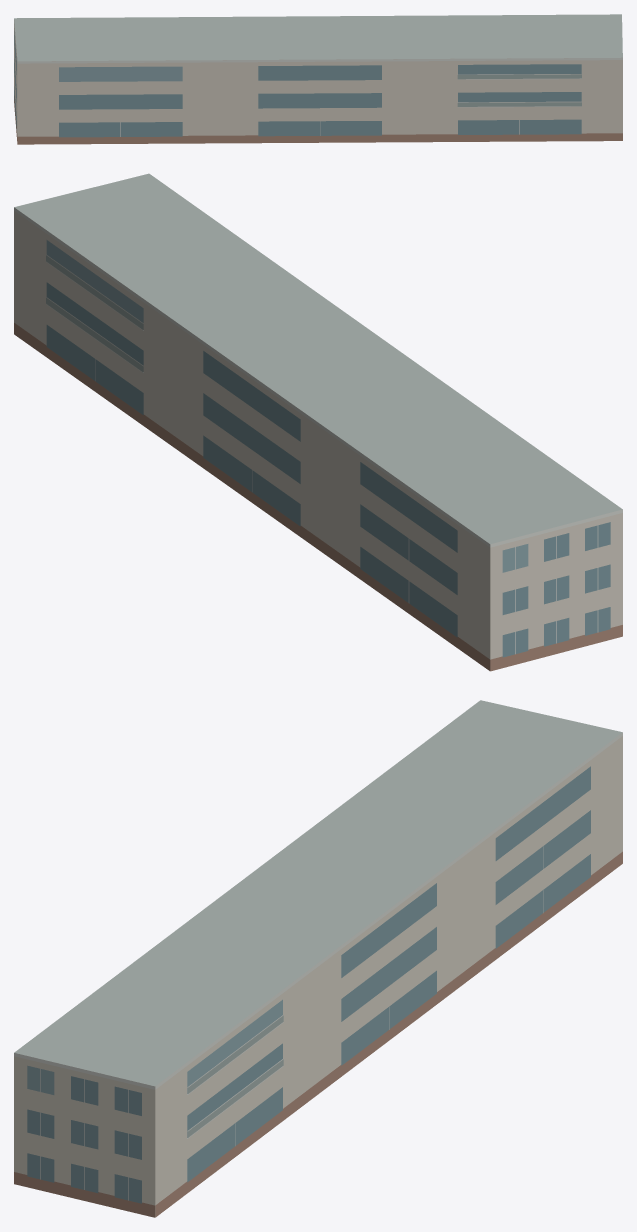
File: survey-upis-32877608.glb
3 views of the same model, one above another, from view 1: azimuth 30°, elevation 25°; view 2: azimuth 150°, elevation 25°; view 3: azimuth 270°, elevation 25° (orthographic). The views are drawn at different scales.
Visible parts, largest first — view 1: survey-upis-32877608.tmp; view 2: survey-upis-32877608.tmp; view 3: survey-upis-32877608.tmp.
Boxes of the visible parts, <box> form: survey-upis-32877608.tmp: <box>14,14,622,144</box>; survey-upis-32877608.tmp: <box>14,173,622,671</box>; survey-upis-32877608.tmp: <box>14,700,622,1217</box>.
Bounding box in the file's own units: 57.72 × 9.15 × 38.45.
